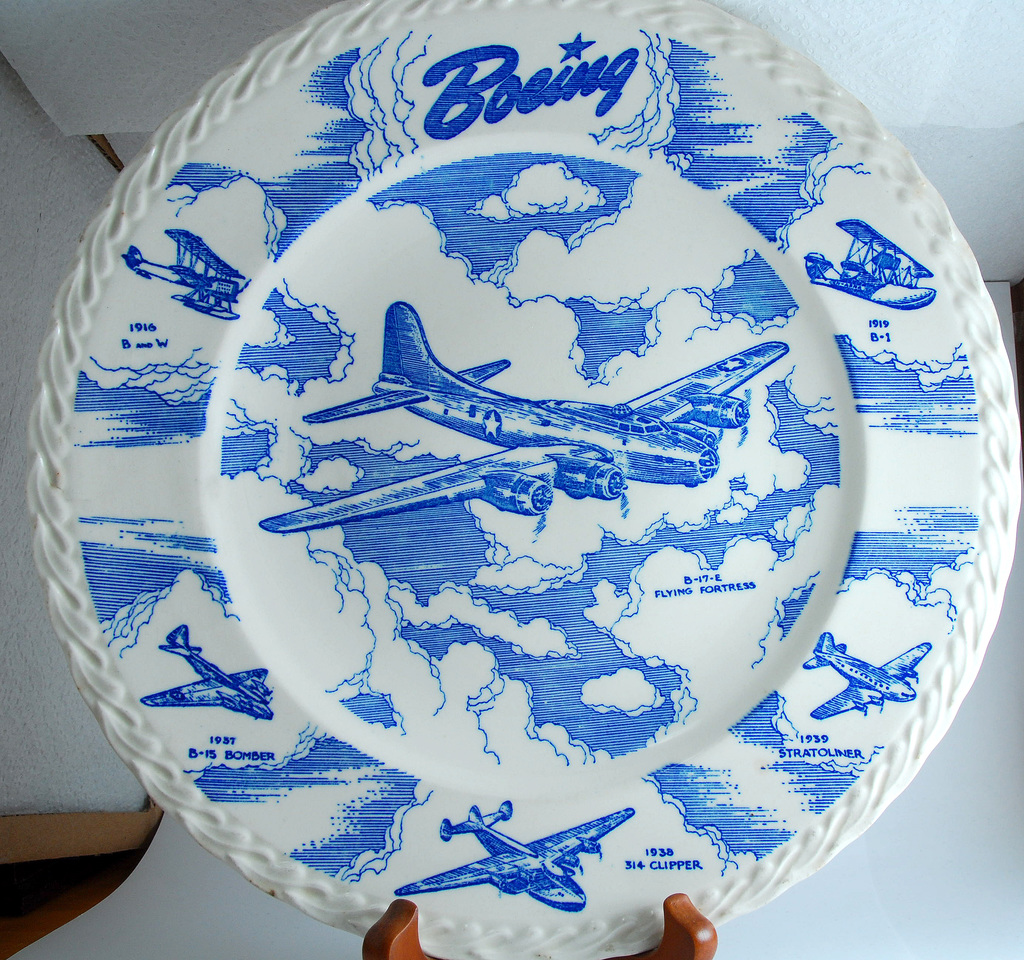plate: (25, 0, 1022, 959)
